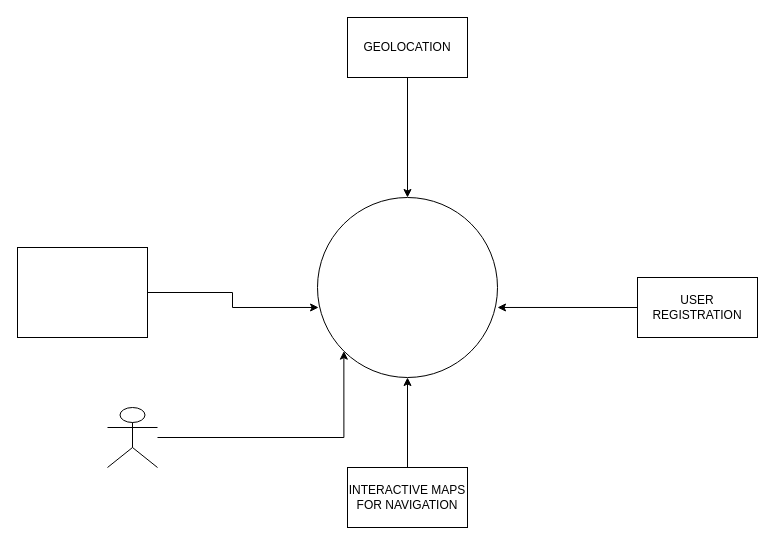
The diagram is 775 pixels wide and 545 high, and some of its shapes have lost their labels. Here are the shapes that lost their labels. From the top down, the centre of each, then its label:
pixel 82 292: FILTER OPTIONS BASED ON CHARGER TYPE, POWER OUTPUT, TARIFF AND CHARGING SPEED
pixel 132 437: Actor
